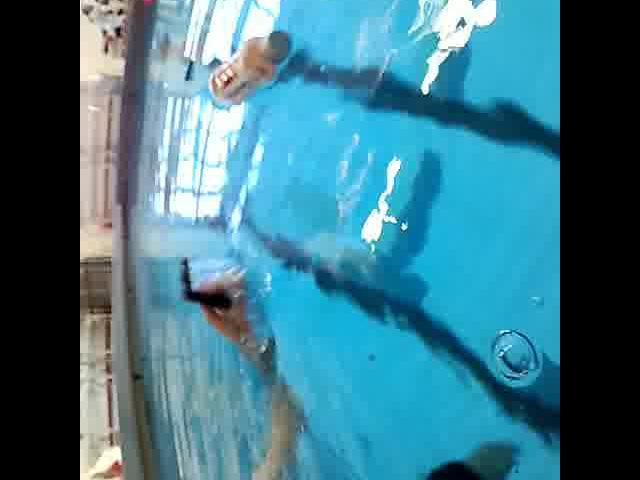Bottle: (204, 24, 298, 109)
